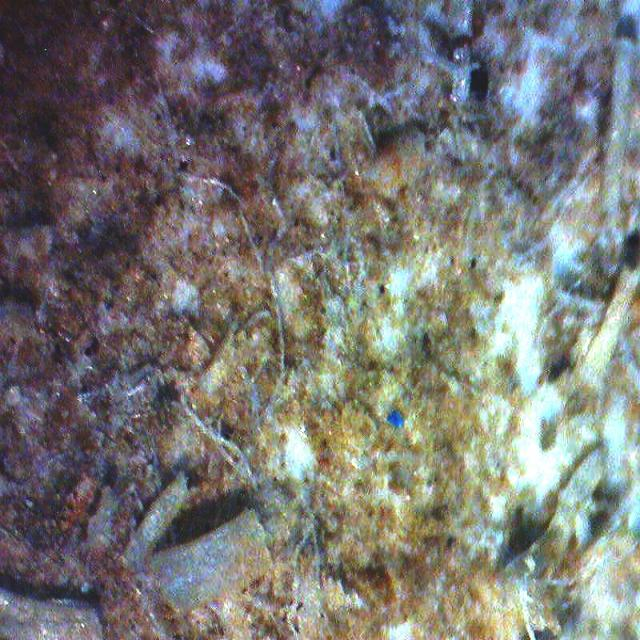microplastic: (386, 408, 404, 429)
